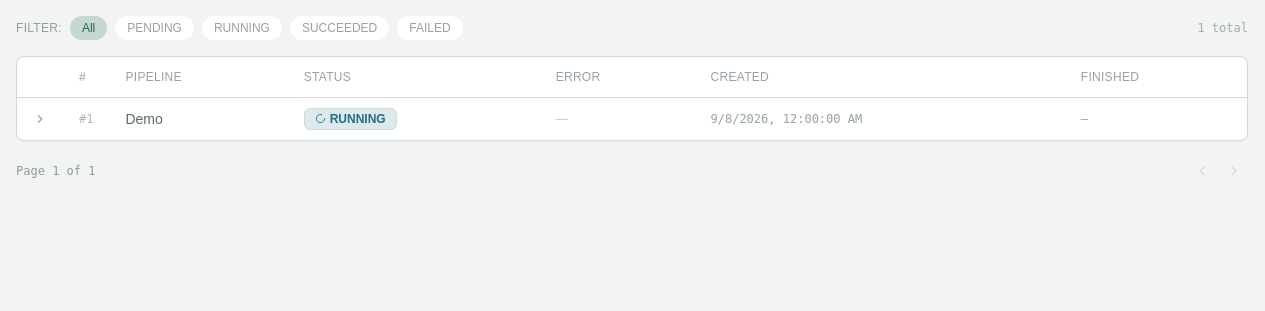
reports detail read failure without changing the listed execution outcome
The width and height of the screenshot is (1265, 311).
Click the button with aria-label "Execution of Demo, RUNNING": click(144, 118) top-left (17, 97), bottom-right (1247, 140)
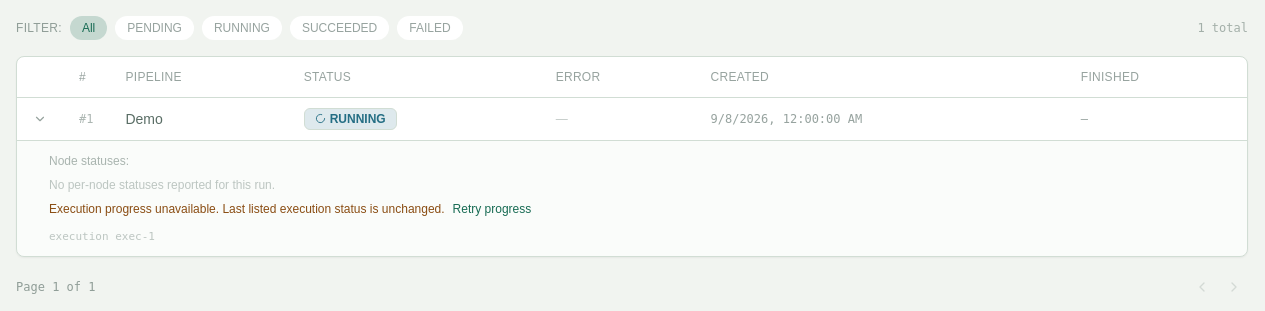
Now the message shows "Execution progress unavailable", box top-left (49, 202), bottom-right (445, 216)
